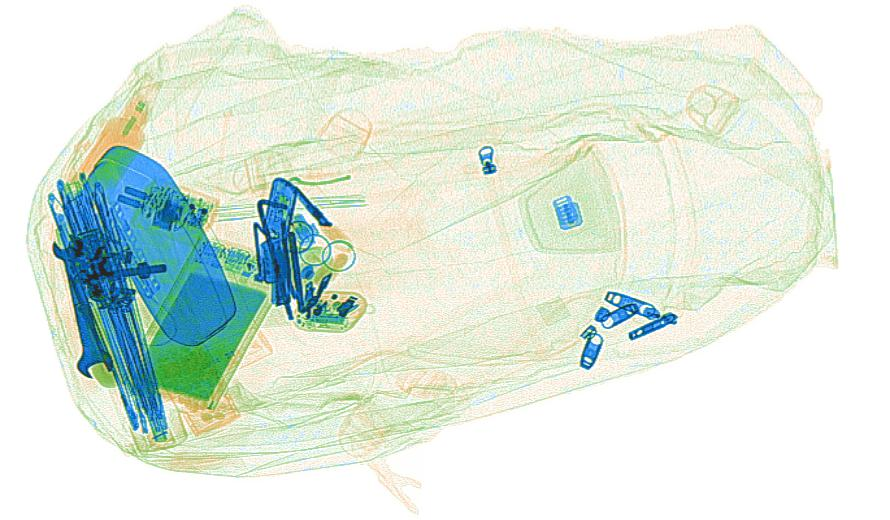plasticBottleWithaNozzle: (69, 70, 166, 211), (132, 324, 275, 406)
